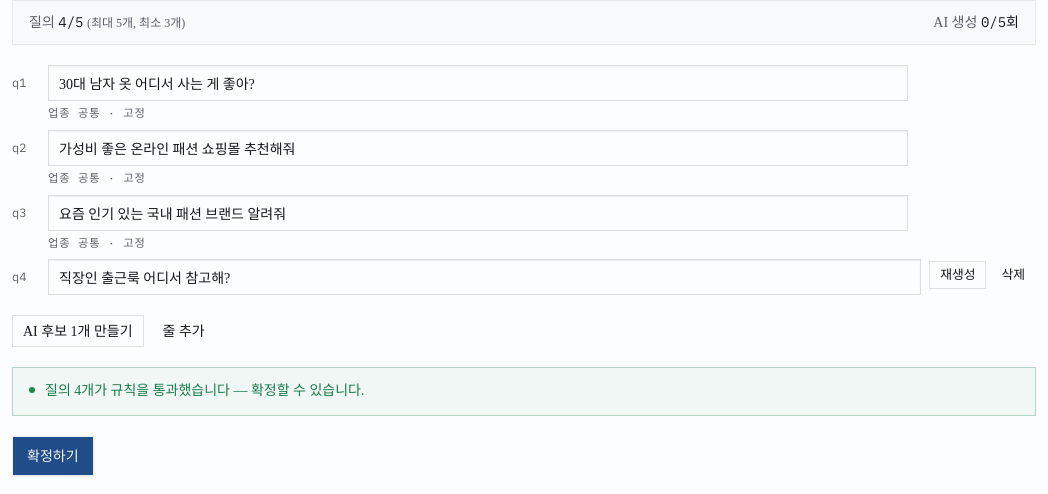
Test: QueryEditor — 템플릿과 같은 글자가 두 번 들어온 줄 › 직접 타이핑한 중복은 삭제할 수 있고, 지우면 다시 확정된다
Replace the text in the field named "질의 4" with "30대 남자 옷 어디서 사는 게 좋아?" at [485, 278], box x1=48 y1=260 x2=921 y2=296
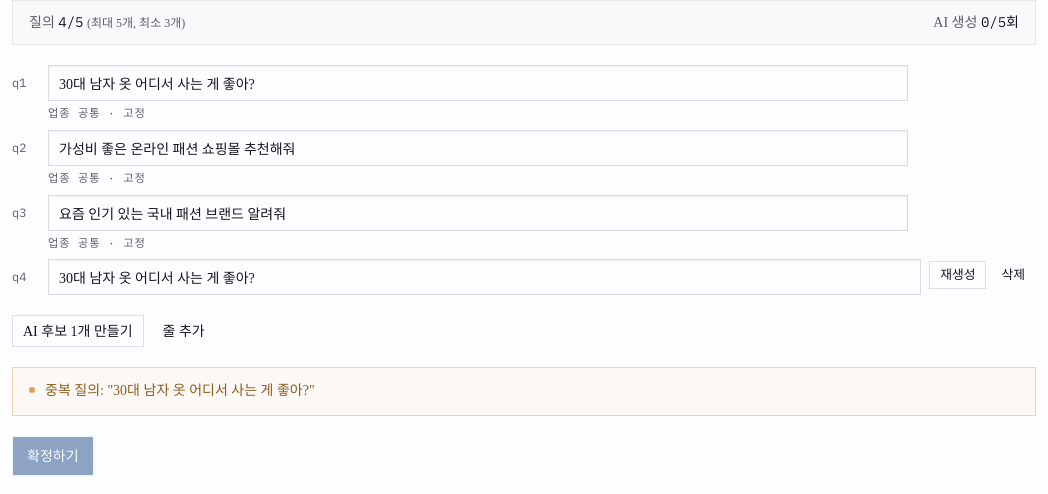
expect the message shows "중복 질의": met, box x1=45 y1=384 x2=315 y2=398
expect the button "확정하기" is disabled: met, box x1=12 y1=436 x2=94 y2=476
Click the button with aria-label "질의 4 삭제".
click(1013, 276)  # box x1=990 y1=262 x2=1036 y2=290
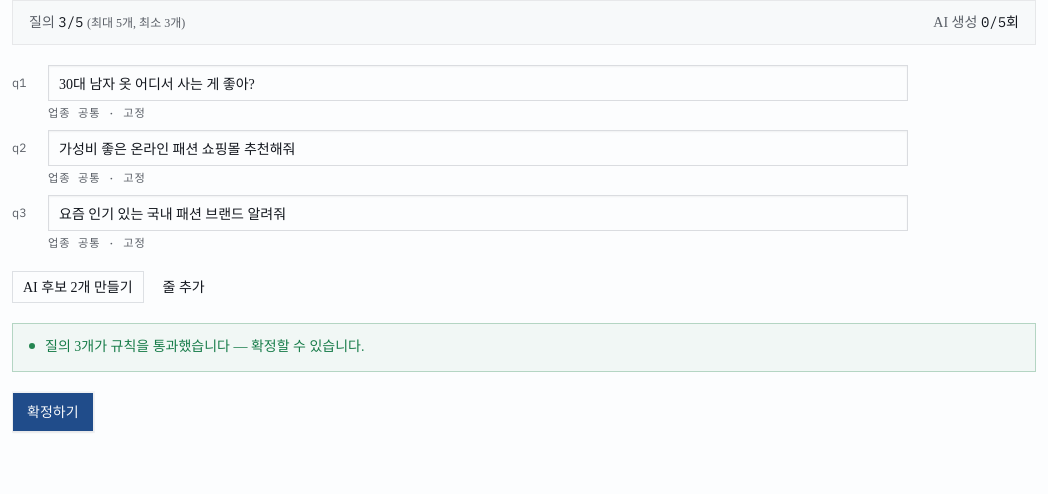
expect the message shows "확정할 수 있습니다": met, box x1=45 y1=340 x2=364 y2=354
expect the button "확정하기" is enabled: met, box x1=12 y1=392 x2=94 y2=432
